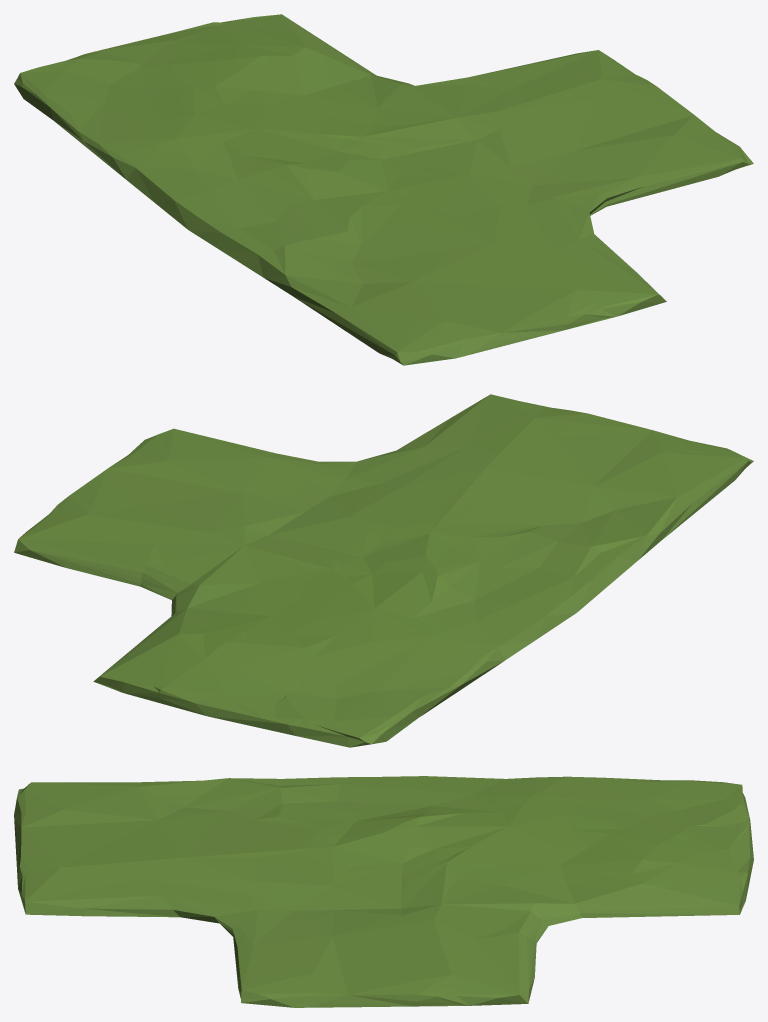
Rendered from MudRoad_04.fbx.
3 renders of one model, top to bottom at view 1: azimuth 30°, elevation 25°; view 2: azimuth 150°, elevation 25°; view 3: azimuth 270°, elevation 25°, orthographic. The views are drawn at different scales.
Visible parts, largest first — view 1: MudRoad_04; view 2: MudRoad_04; view 3: MudRoad_04.
Part boxes in pixels (left/top/right/bottom): MudRoad_04: left=14, top=14, right=753, bottom=365; MudRoad_04: left=14, top=394, right=753, bottom=747; MudRoad_04: left=14, top=776, right=753, bottom=1007.
Size of the model in its own units: 6.1 by 0.2866 by 8.5.
